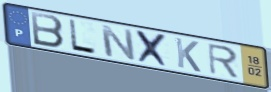B: (29, 10, 66, 50)
K: (173, 36, 203, 74)
L: (67, 18, 99, 57)
N: (99, 23, 138, 63)
R: (206, 42, 241, 80)
X: (133, 28, 172, 70)
